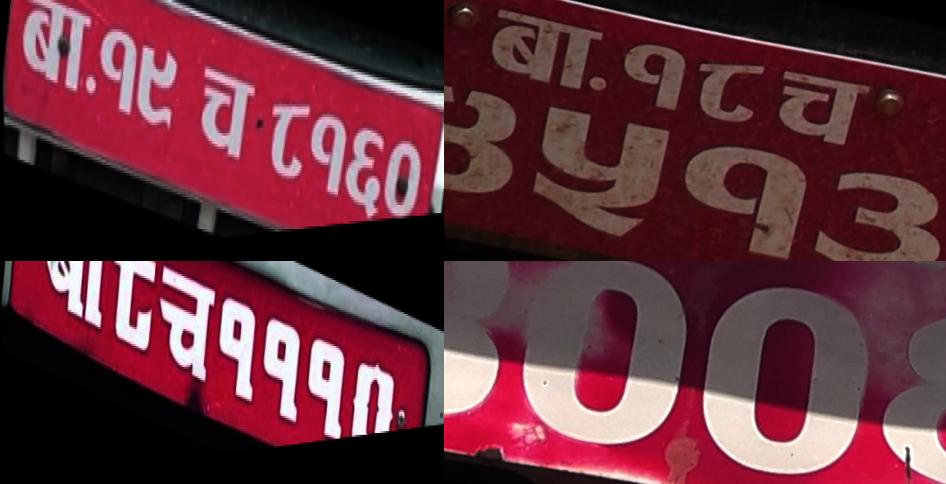0: (667, 265, 900, 484), (485, 261, 713, 476), (342, 347, 400, 448), (375, 139, 429, 229)
1: (653, 127, 820, 261), (601, 31, 698, 126), (207, 280, 269, 428), (253, 308, 314, 456), (300, 327, 355, 452), (88, 12, 144, 134), (299, 107, 352, 218)
3: (792, 156, 946, 261)
4: (444, 261, 537, 449), (444, 60, 535, 218)
5: (507, 92, 685, 261)
6: (851, 298, 946, 484), (336, 121, 389, 233)
8: (679, 51, 770, 142), (100, 261, 162, 371), (259, 87, 314, 200)
9: (127, 27, 186, 149)
ba: (472, 0, 611, 108), (11, 0, 98, 114), (32, 261, 116, 348)
cha: (756, 59, 878, 167), (148, 261, 222, 411), (188, 52, 264, 184), (810, 261, 946, 315)
